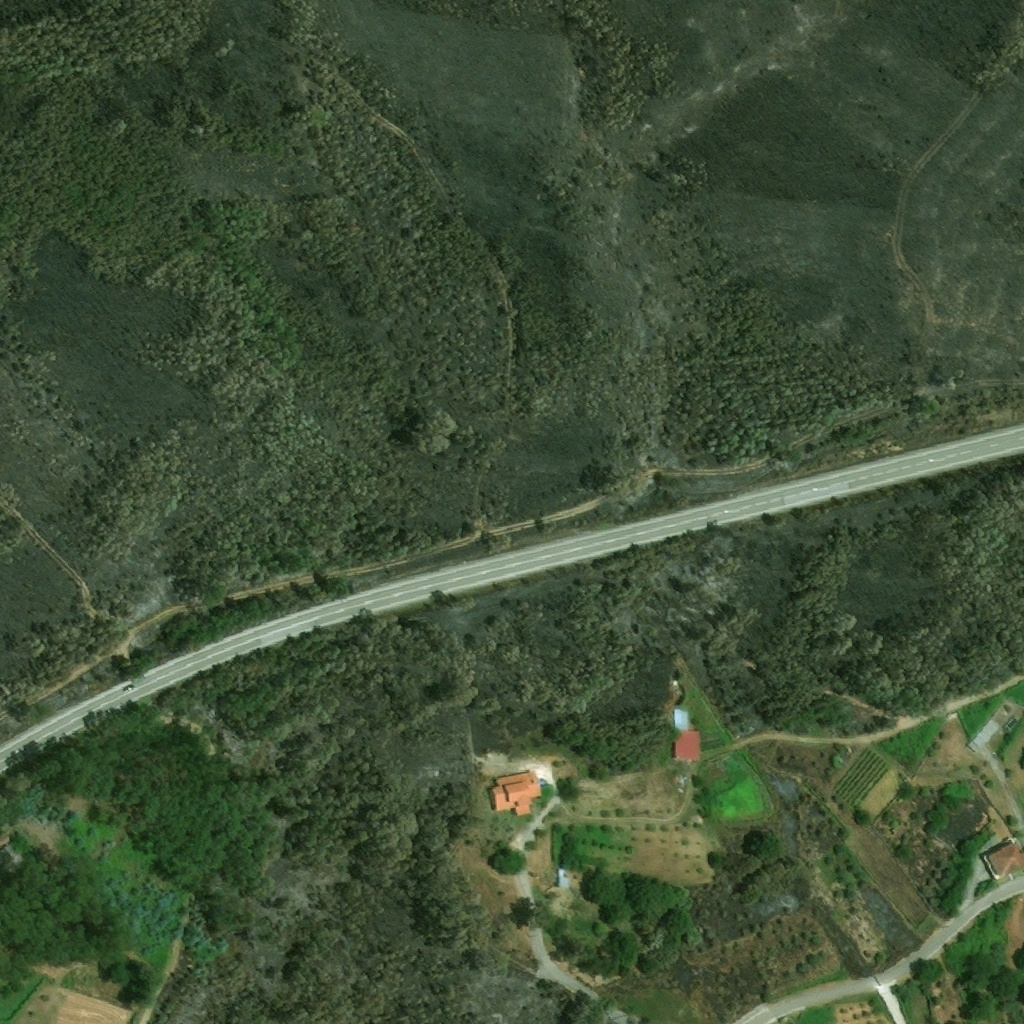0 no-damage: (488, 771, 541, 815), (985, 842, 1023, 878), (966, 720, 999, 752), (673, 731, 699, 759), (674, 708, 688, 731), (557, 869, 567, 888)
